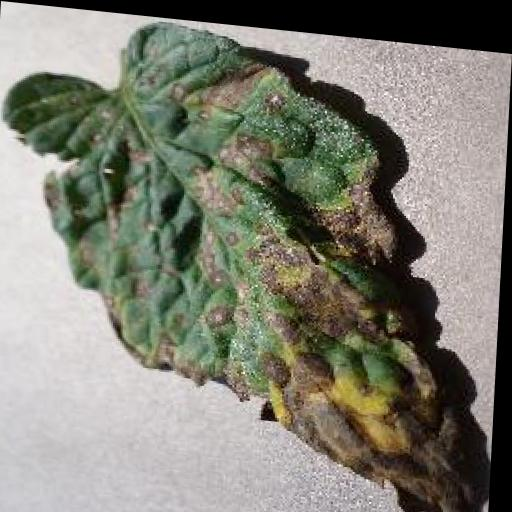Early Blight: (0, 1, 512, 512)
